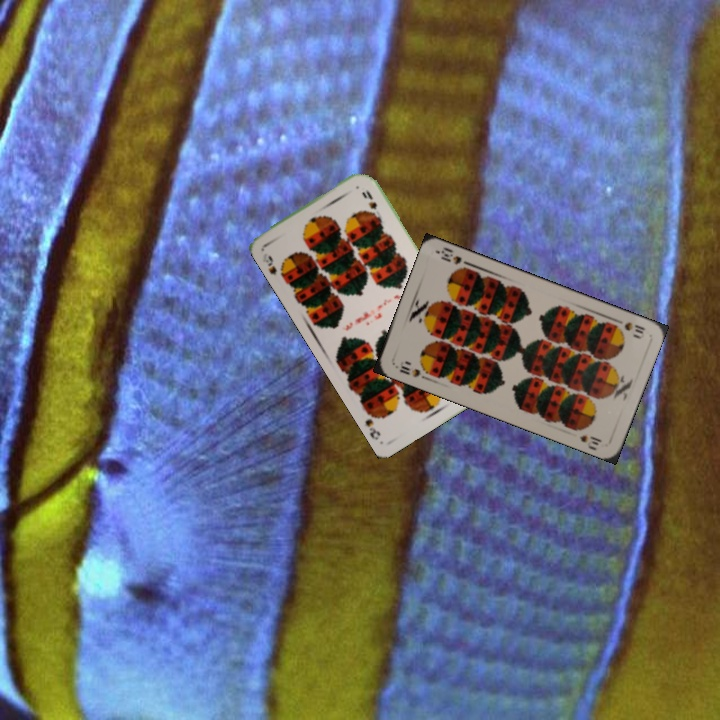S10: (610, 315, 648, 340), (395, 361, 423, 380)
S9: (258, 249, 289, 281)
